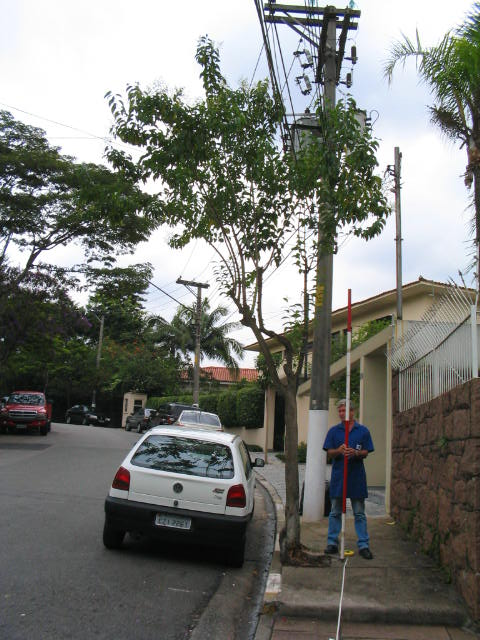crown: (102, 32, 403, 261)
stem: (273, 398, 314, 565)
stick: (336, 288, 355, 562)
tree: (102, 31, 404, 565)
